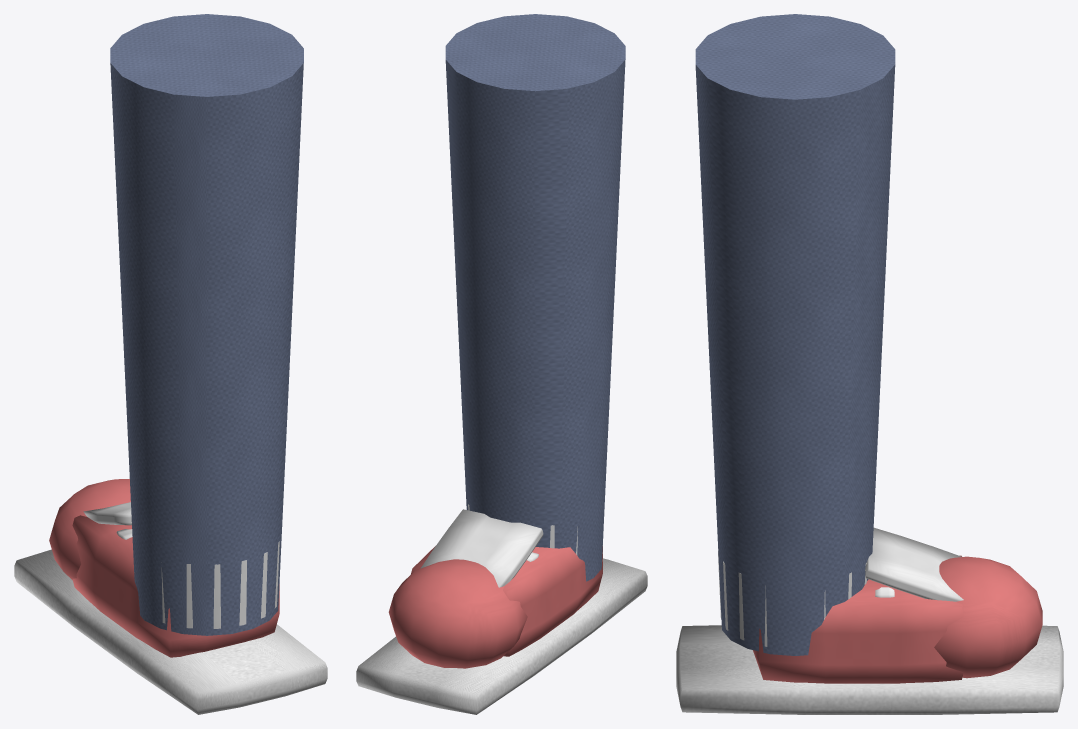
File: person_lleg.glb
3 views of the same model, side by side, from view 1: azimuth 30°, elevation 25°; view 2: azimuth 150°, elevation 25°; view 3: azimuth 270°, elevation 25° (orthographic). The views are drawn at different scales.
Parts seen in each view (by area): view 1: person_lleg_body; view 2: person_lleg_body; view 3: person_lleg_body.
Boxes of the visible parts, <box> form: person_lleg_body: <box>14,14,327,714</box>; person_lleg_body: <box>356,14,647,714</box>; person_lleg_body: <box>676,14,1063,714</box>.
Size of the model in its own units: 0.136 by 0.4655 by 0.2597.
4 materials, 4 textured.
